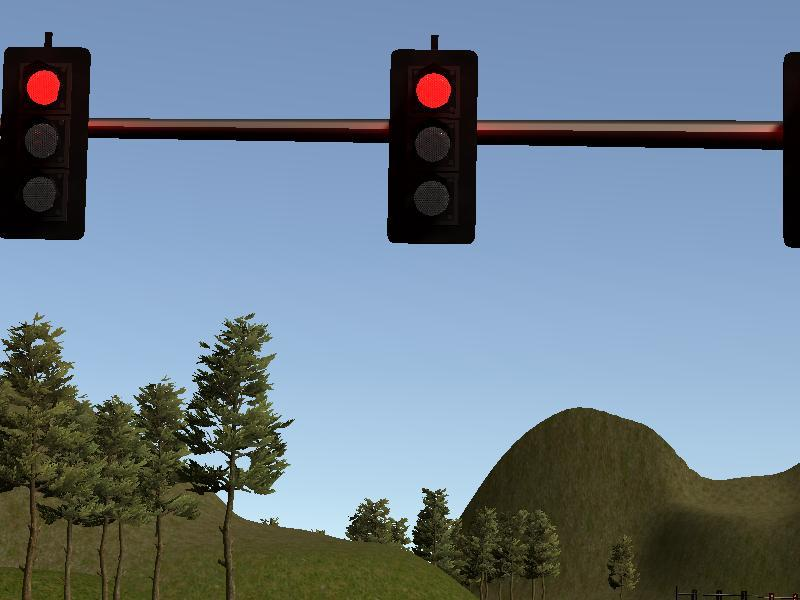Red: (391, 50, 475, 243), (4, 46, 86, 241)
